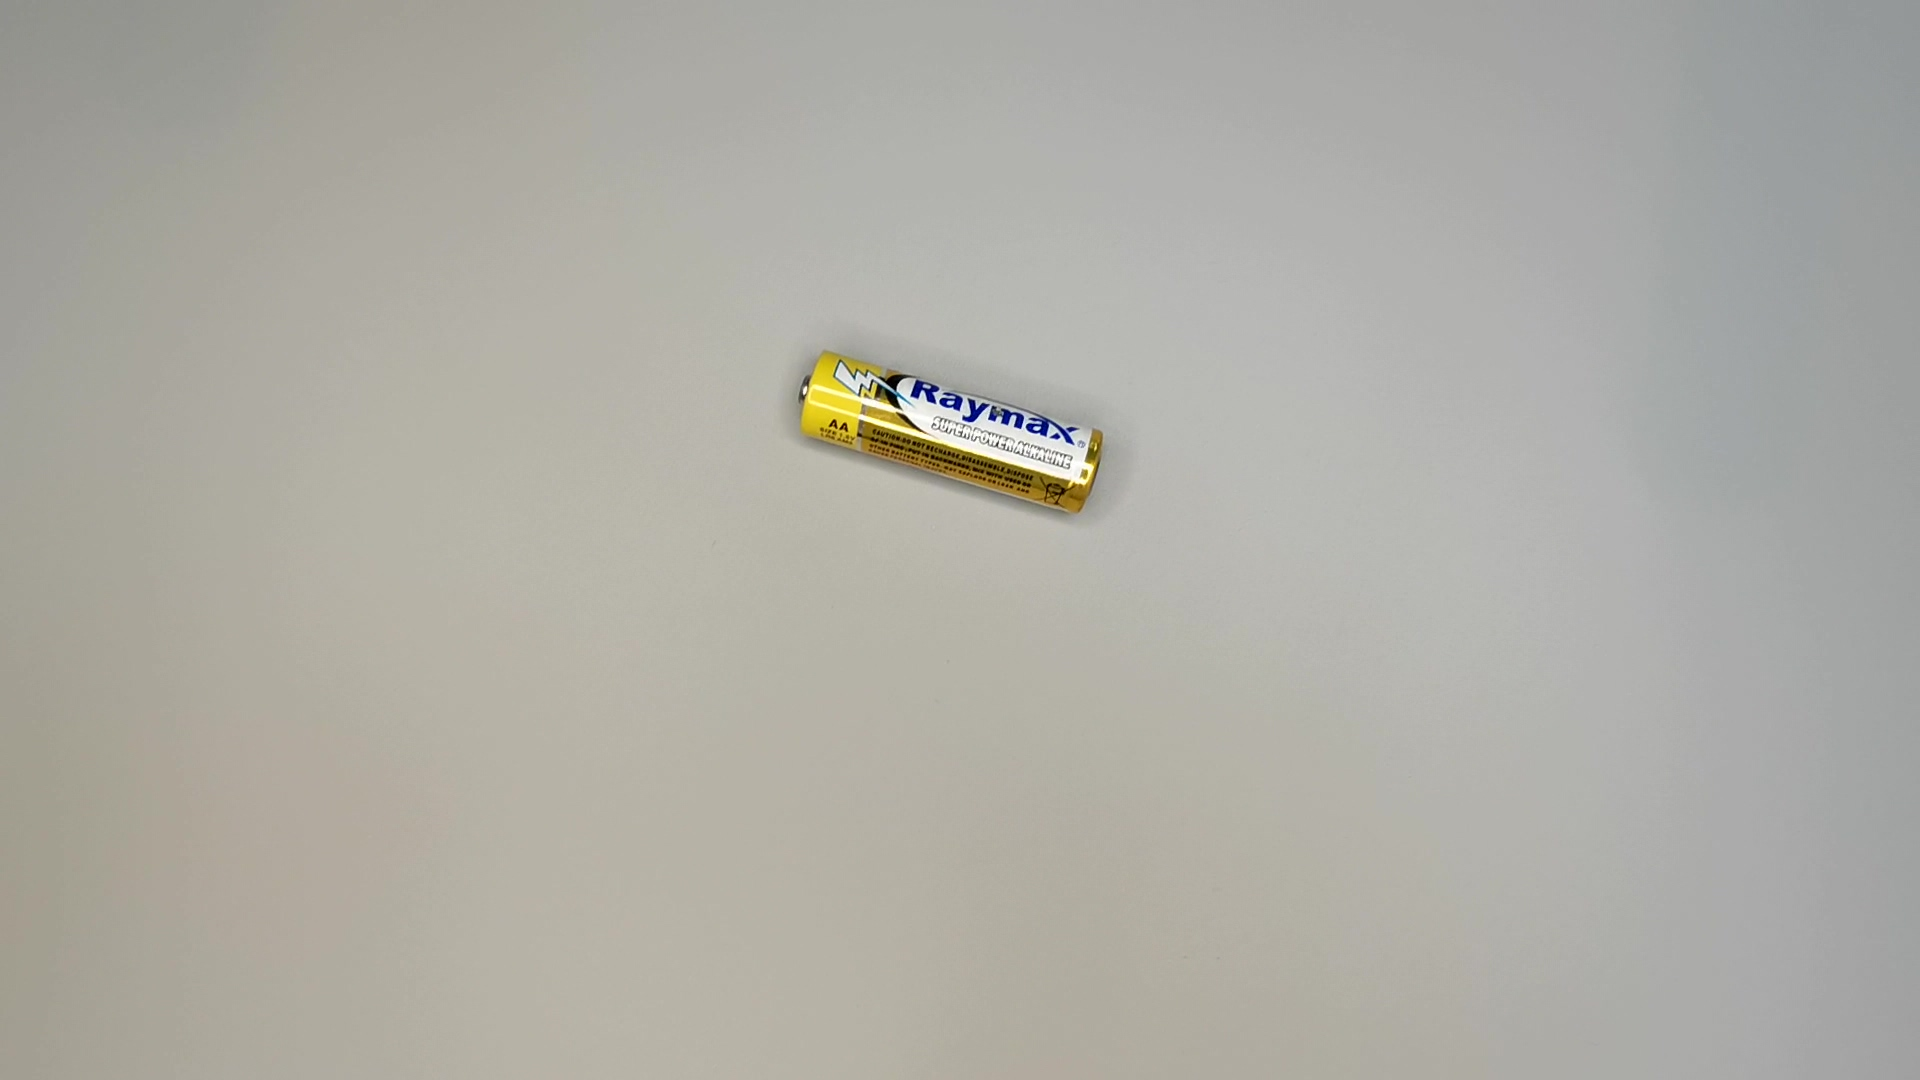battery: (793, 338, 1116, 516)
